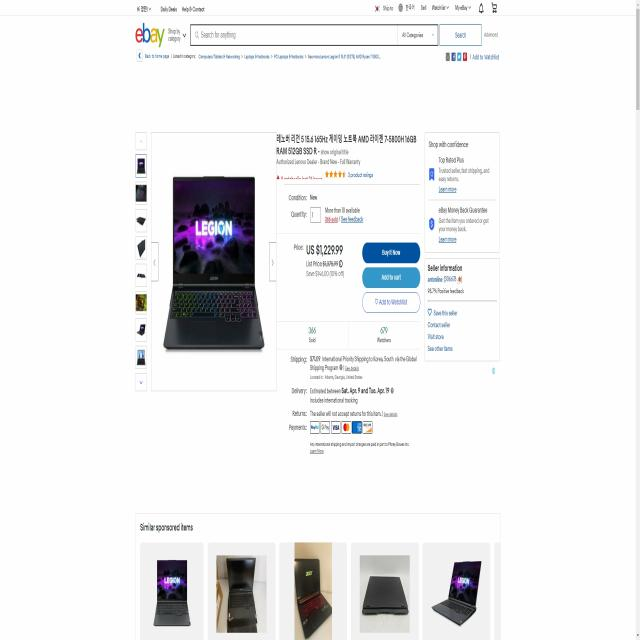menu-bar: (374, 0, 498, 16)
search: (188, 20, 483, 48)
side-panel: (424, 127, 502, 363)
tab-bar: (134, 50, 386, 64), (134, 0, 208, 14)
